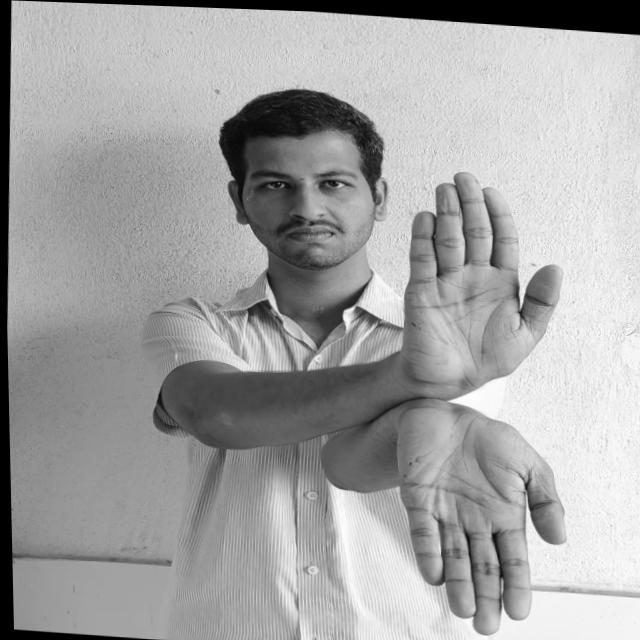Morning: (388, 162, 581, 640)
